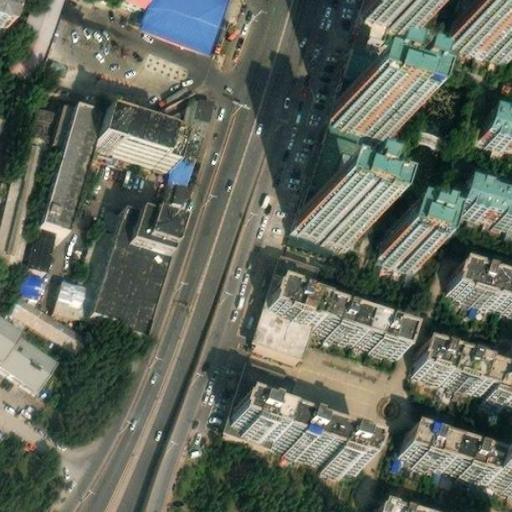building: (93, 178, 196, 325), (270, 281, 410, 351), (239, 391, 372, 460), (250, 244, 326, 359), (43, 86, 105, 217), (0, 130, 57, 256), (415, 347, 512, 404), (400, 428, 498, 480), (9, 293, 87, 349), (95, 98, 172, 151), (142, 0, 227, 46), (328, 82, 401, 133), (9, 0, 61, 70), (290, 196, 356, 243), (451, 265, 512, 312), (376, 215, 427, 261), (468, 175, 512, 219), (20, 218, 58, 267), (23, 96, 61, 138), (363, 0, 429, 23), (54, 275, 91, 310), (168, 144, 197, 184), (184, 88, 218, 120), (369, 498, 443, 512), (18, 261, 44, 294), (491, 104, 512, 137), (490, 456, 512, 486)
